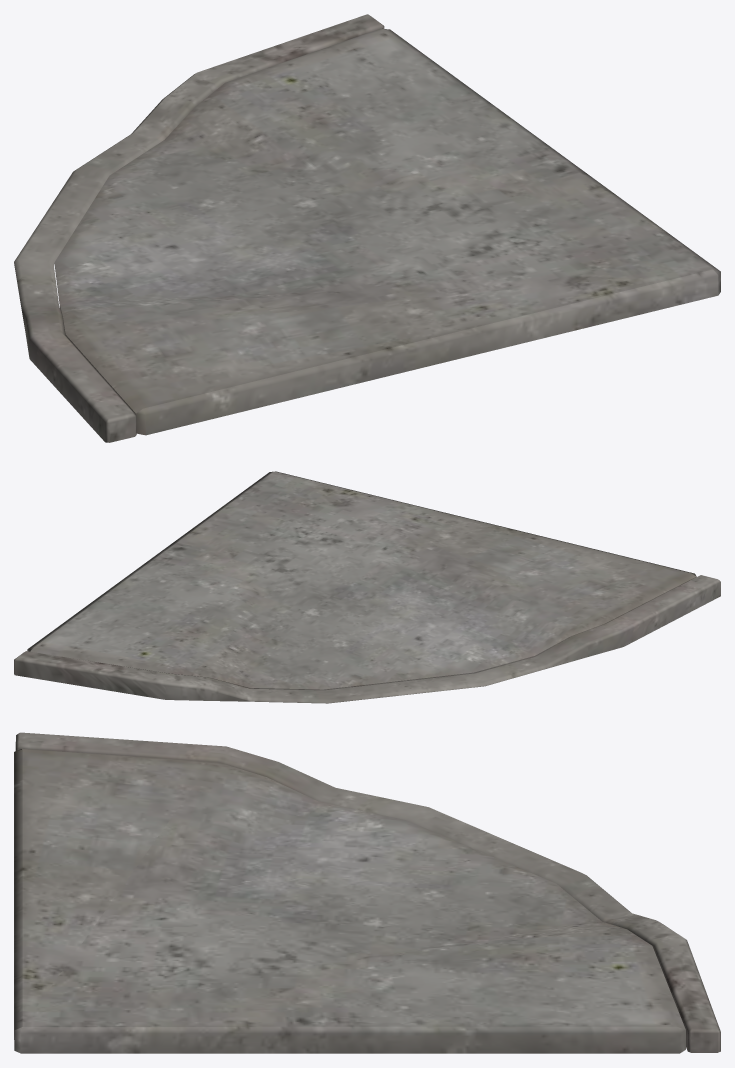
The model's file is SidewalkCornerLargeWalk.glb.
The picture shows the model from 3 angles, top to bottom: view 1: azimuth 30°, elevation 25°; view 2: azimuth 150°, elevation 25°; view 3: azimuth 270°, elevation 25°; orthographic projection. The views are drawn at different scales.
Parts seen in each view (by area): view 1: SidewalkCornerLargeWalkCurb_SidewalkMat_0; view 2: SidewalkCornerLargeWalkCurb_SidewalkMat_0; view 3: SidewalkCornerLargeWalkCurb_SidewalkMat_0.
Boxes of the visible parts, bbox=[...] form: SidewalkCornerLargeWalkCurb_SidewalkMat_0: bbox=[14, 14, 720, 442]; SidewalkCornerLargeWalkCurb_SidewalkMat_0: bbox=[14, 471, 720, 703]; SidewalkCornerLargeWalkCurb_SidewalkMat_0: bbox=[14, 732, 720, 1053].
Size of the model in its own units: 4.25 by 0.1537 by 4.23.
1 material, 1 textured.
